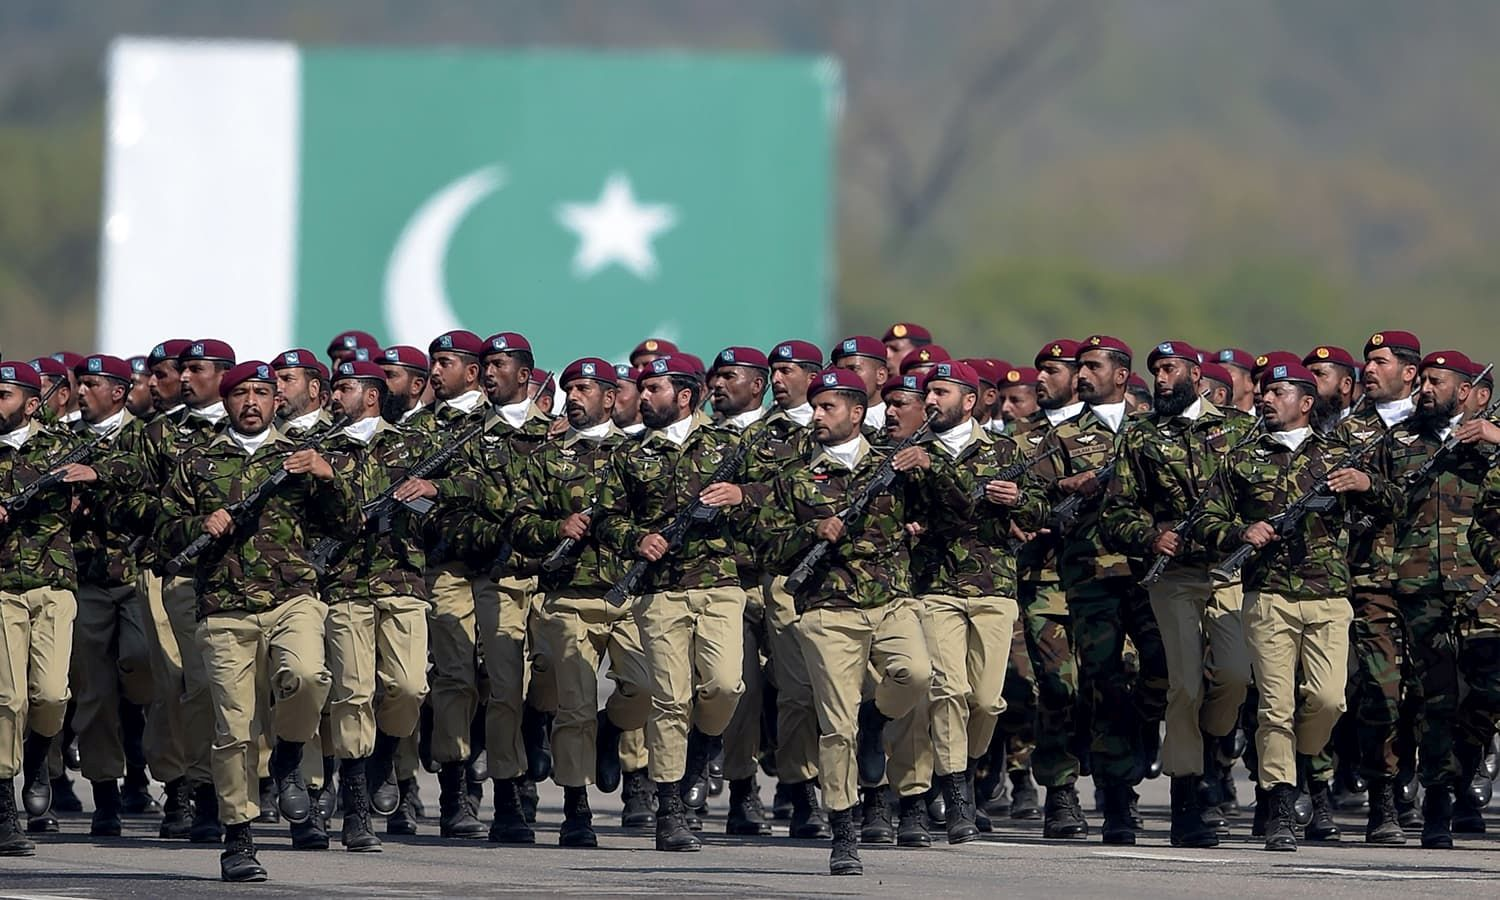uniform: (774, 427, 930, 845), (1122, 409, 1264, 809), (442, 402, 561, 840), (1361, 423, 1500, 781), (1222, 433, 1353, 800), (621, 417, 737, 830), (205, 429, 322, 829), (900, 424, 1020, 802), (1034, 422, 1155, 783), (315, 421, 423, 811), (535, 424, 640, 823), (62, 417, 142, 802), (3, 431, 73, 832)
